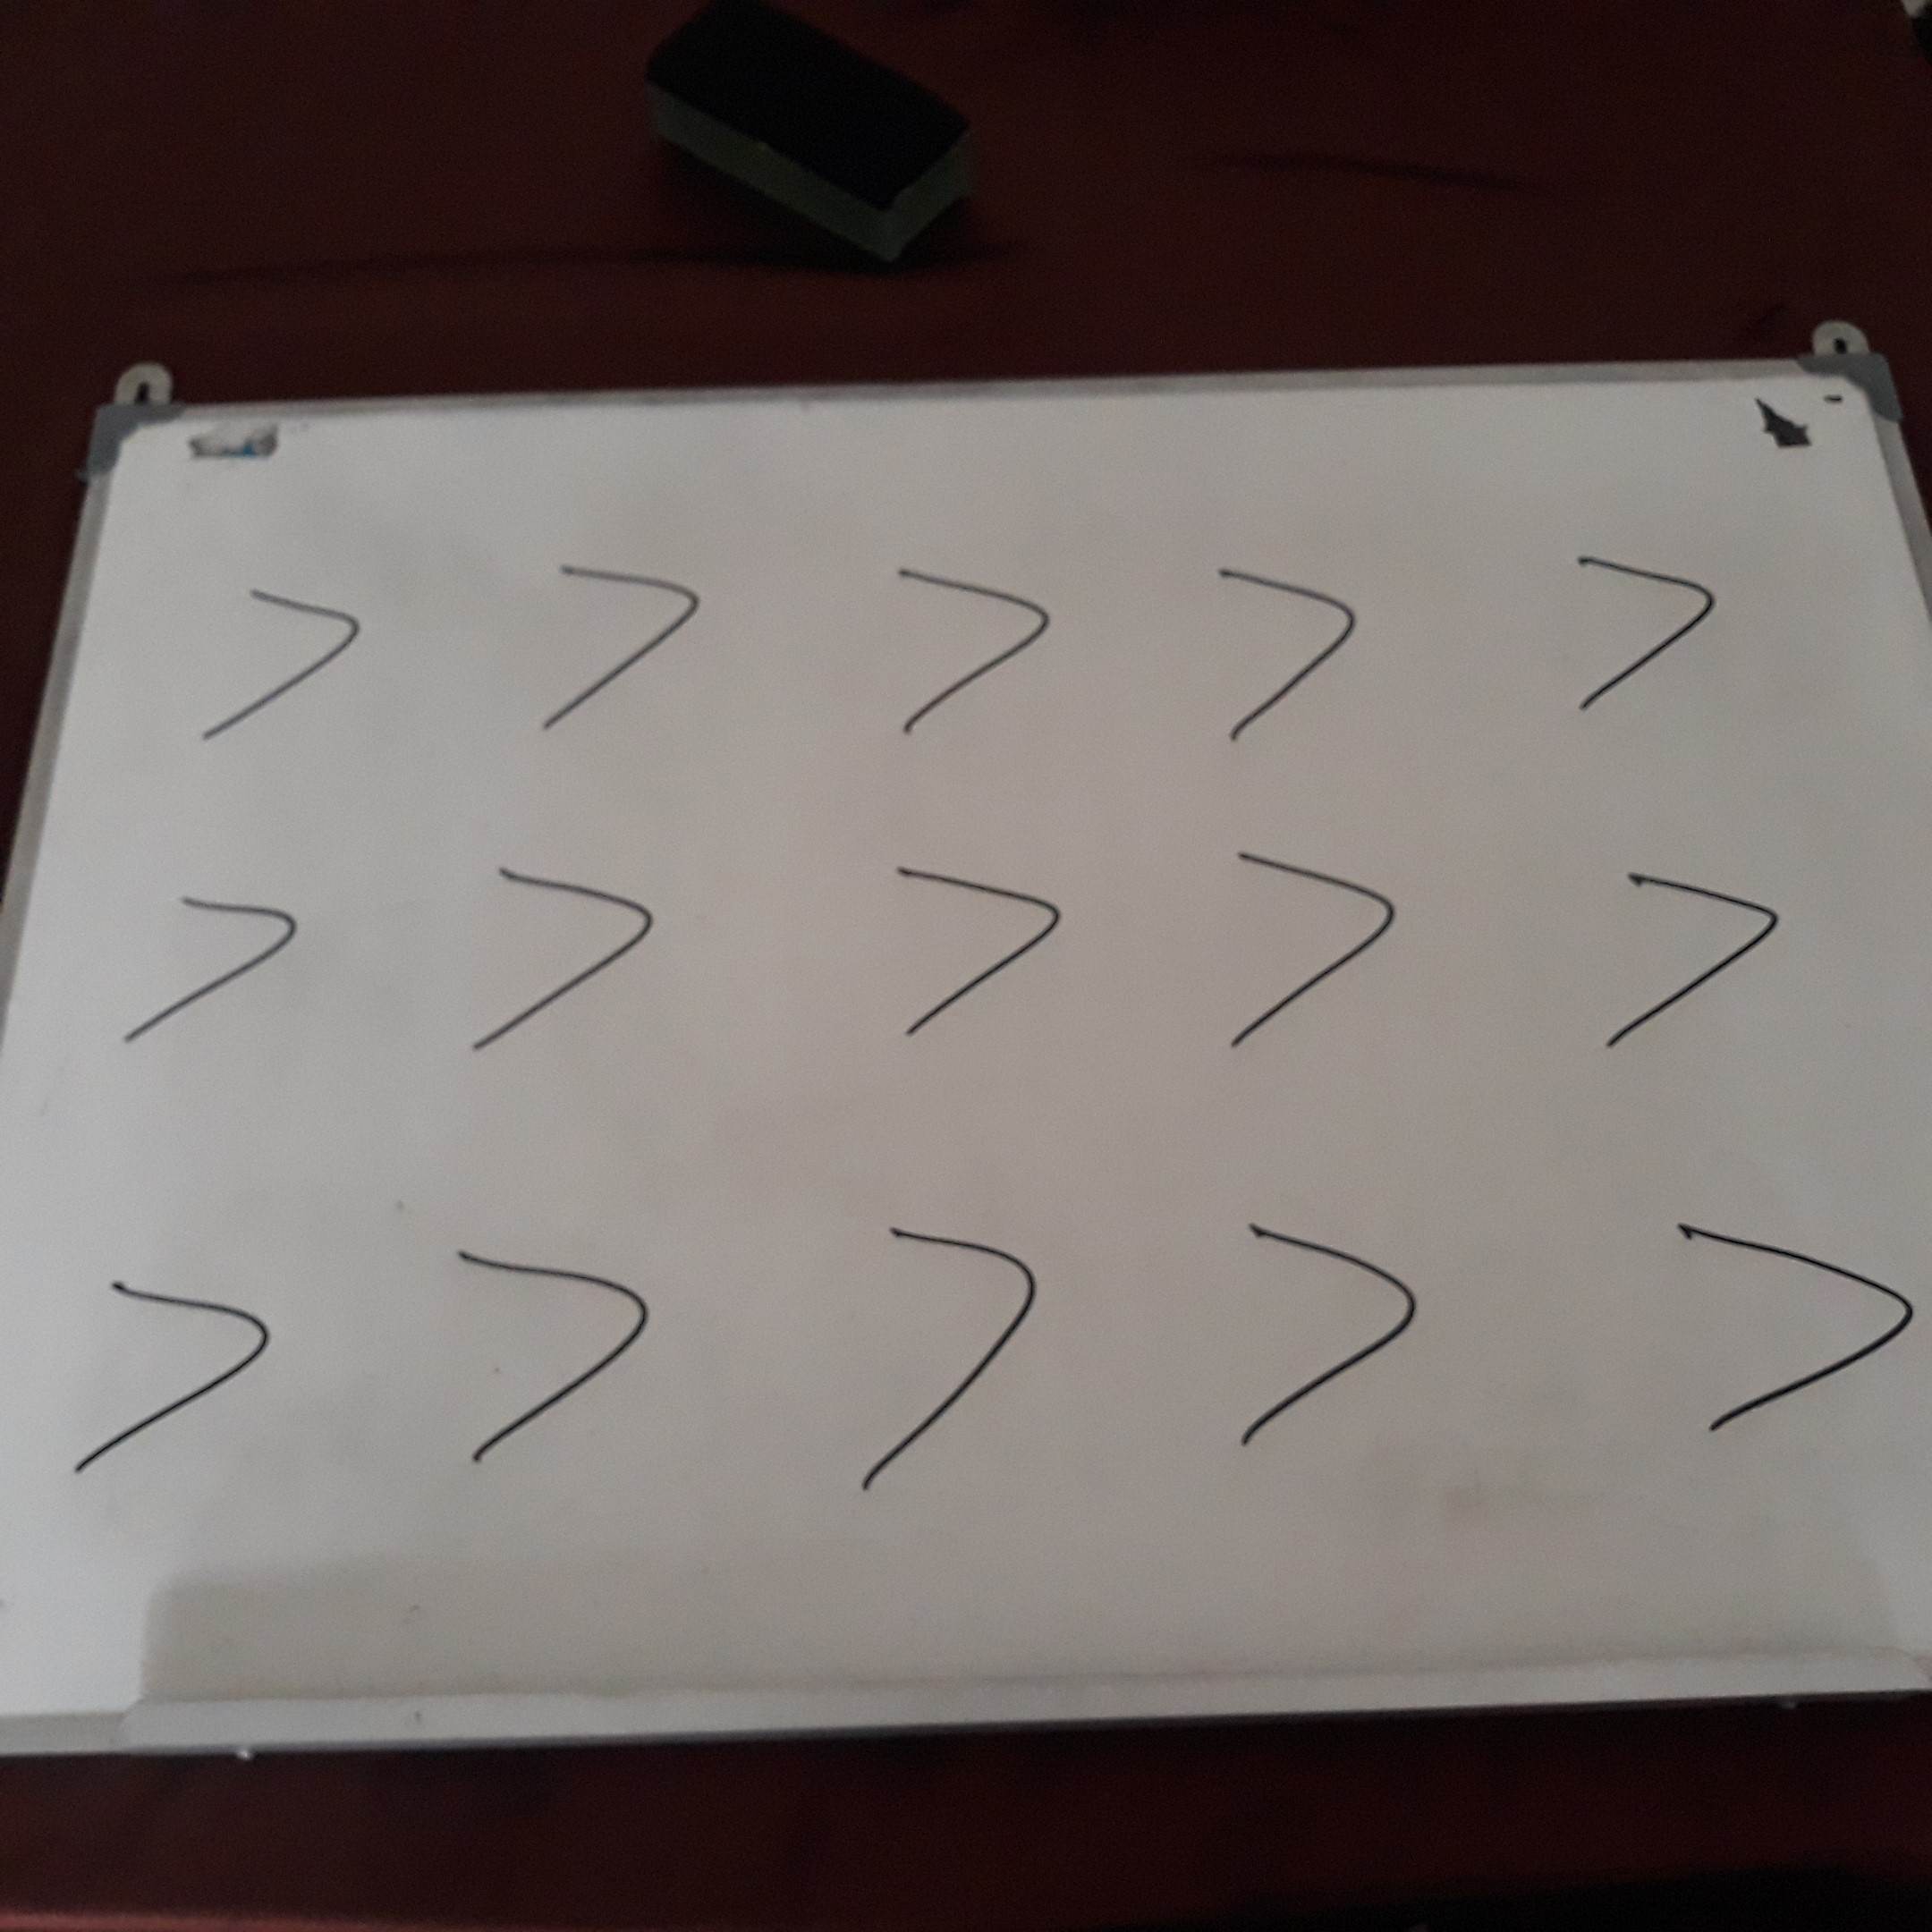morethan: (1668, 1182, 1918, 1468), (852, 1212, 1059, 1496), (1217, 1191, 1425, 1475), (1198, 831, 1426, 1072), (1571, 829, 1799, 1071), (55, 1247, 284, 1488), (434, 1233, 662, 1474), (862, 849, 1077, 1050), (458, 860, 673, 1061), (519, 552, 722, 742), (869, 552, 1072, 742), (1179, 554, 1382, 744), (115, 858, 318, 1048), (1538, 530, 1741, 720), (183, 565, 386, 756)
